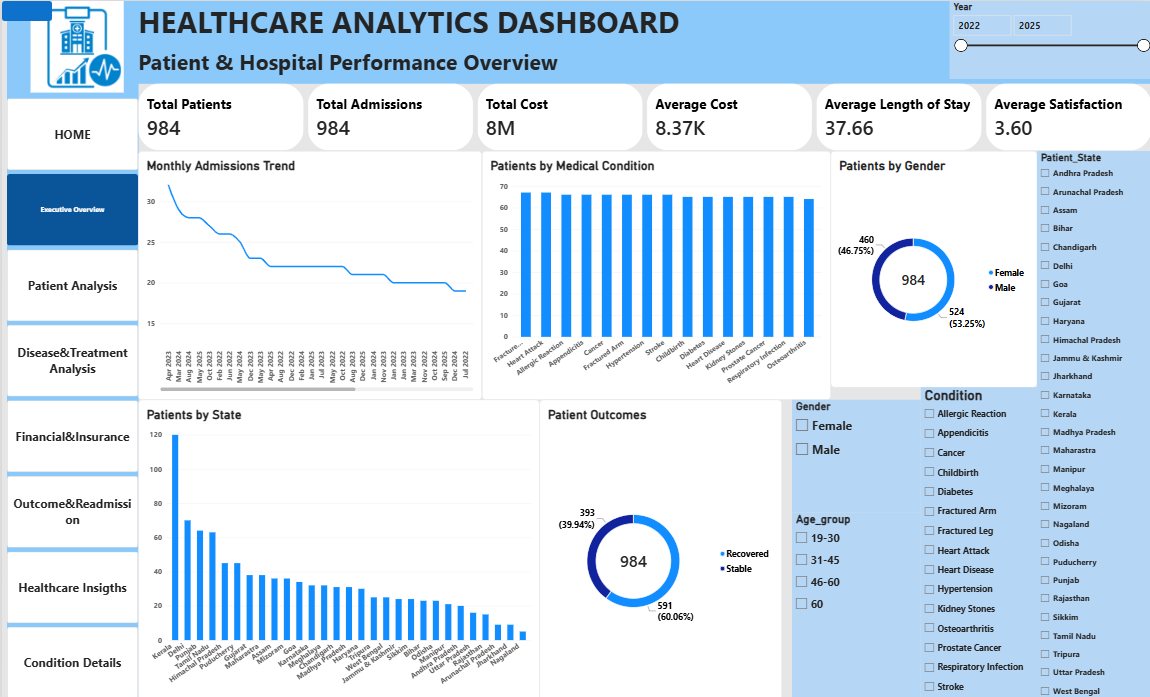

Layout of this report page (visuals, bound fields, positions):
{"tool":"powerbi","page":{"name":"Executive Overview","canvas":[2300,1400],"ordinal":1},"visuals":[{"type":"shape","box":[9.8,0,263.4,1400],"z":0},{"type":"shape","box":[273.2,0,2026.8,165.9],"z":1000},{"type":"textbox","box":[273.2,0,1207.3,107.3],"z":2000},{"type":"textbox","box":[273.2,92.7,2026.8,180.5],"z":3000},{"type":"cardVisual","fields":{"Data":["DateTable.Total Patients","DateTable.Total Admissions","DateTable.Total Cost","DateTable.Average Cost","DateTable.Average Length of Stay","DateTable.Average Satisfaction"]},"box":[273.2,165.9,2026.8,134.1],"z":4000},{"type":"lineChart","title":"Monthly Admissions Trend","fields":{"Category":["DateTable.Month Year"],"Y":["DateTable.Total Admissions"]},"box":[272.5,300,687.5,497.5],"z":5000},{"type":"columnChart","title":"Patients by Medical Condition","fields":{"Category":["HealthCare_Data.Condition"],"Y":["DateTable.Total Patients"]},"box":[960,300,697.5,497.5],"z":6000},{"type":"donutChart","title":"Patient Outcomes","fields":{"Category":["HealthCare_Data.Outcome"],"Y":["DateTable.Total Patients"]},"box":[1075,797.5,485,602.5],"z":7000},{"type":"donutChart","title":"Patients by Gender","fields":{"Category":["HealthCare_Data.Gender"],"Y":["DateTable.Total Patients"]},"box":[1657.5,300,412.5,472.5],"z":8000},{"type":"columnChart","title":"Patients by State","fields":{"Category":["HealthCare_Data.Patient_State"],"Y":["DateTable.Total Patients"]},"box":[272.5,797.5,802.5,602.5],"z":9000},{"type":"slicer","fields":{"Values":["DateTable.Year"]},"box":[1895,0,404.9,156.1],"z":10000},{"type":"slicer","fields":{"Values":["HealthCare_Data.Gender"]},"box":[1580,797.5,257.5,225],"z":11000},{"type":"slicer","fields":{"Values":["HealthCare_Data.Patient_State"]},"box":[2070.7,300,229.3,1100],"z":12000},{"type":"slicer","fields":{"Values":["HealthCare_Data.Condition"]},"box":[1837.5,772.5,232.5,627.5],"z":13000},{"type":"slicer","fields":{"Values":["HealthCare_Data.Age_group"]},"box":[1580,1022.5,257.5,377.5],"z":14000},{"type":"image","box":[26.8,0,246.3,182.9],"z":15000},{"type":"actionButton","box":[0,0,100,40],"z":16000},{"type":"pageNavigator","box":[10,195,262.5,1205],"z":17000}]}

Visuals, with their boxes in screenshot pixels (x1, y1, x2, y2), scaled from the page's 2300x1400 canvas onto the 1150x697 screenshot:
shape: region(5, 0, 137, 696)
shape: region(137, 0, 1149, 83)
textbox: region(137, 0, 740, 53)
textbox: region(137, 46, 1149, 136)
cardVisual - DateTable.Total Patients x DateTable.Total Admissions: region(137, 83, 1149, 149)
"Monthly Admissions Trend" lineChart: region(136, 149, 480, 397)
"Patients by Medical Condition" columnChart: region(480, 149, 829, 397)
"Patient Outcomes" donutChart: region(538, 397, 780, 696)
"Patients by Gender" donutChart: region(829, 149, 1035, 385)
"Patients by State" columnChart: region(136, 397, 538, 696)
slicer - DateTable.Year: region(948, 0, 1149, 78)
slicer - HealthCare_Data.Gender: region(790, 397, 919, 509)
slicer - HealthCare_Data.Patient_State: region(1035, 149, 1149, 696)
slicer - HealthCare_Data.Condition: region(919, 385, 1035, 696)
slicer - HealthCare_Data.Age_group: region(790, 509, 919, 696)
image: region(13, 0, 137, 91)
actionButton: region(0, 0, 50, 20)
pageNavigator: region(5, 97, 136, 696)
